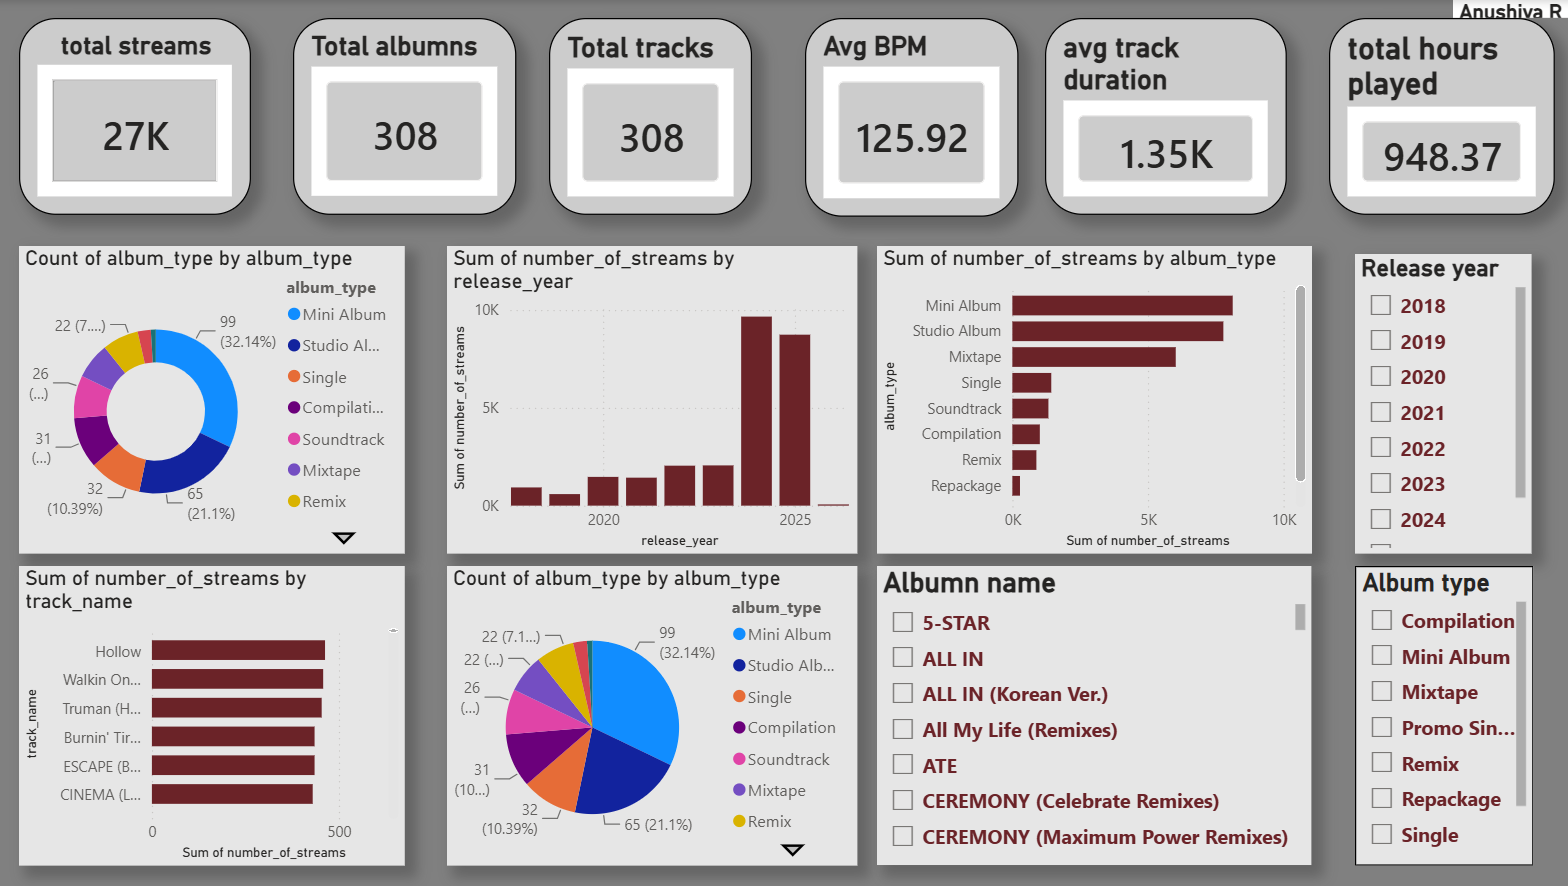

Layout of this report page (visuals, bound fields, positions):
{"tool":"powerbi","page":{"name":"executive","canvas":[1280,720],"ordinal":0},"visuals":[{"type":"cardVisual","title":"total streams","fields":{"Data":["Sum(spotify_skz_counts_album (2).number_of_streams)"]},"box":[21.7,15,188.3,160],"z":0},{"type":"cardVisual","title":"Total albumns","fields":{"Data":["CountNonNull(spotify_skz_counts_album (2).album_name)"]},"box":[243.3,15,181.7,160],"z":1},{"type":"cardVisual","title":"Total tracks","fields":{"Data":["CountNonNull(spotify_skz_counts_album (2).track_name)"]},"box":[451.7,15,165,160],"z":2},{"type":"cardVisual","title":"Avg BPM","fields":{"Data":["Avg(spotify_skz_counts_album (2).beats)"]},"box":[660,15,173.3,161.7],"z":3},{"type":"cardVisual","title":"total hours played","fields":{"Data":["Sum(spotify_skz_counts_album (2).Average Track Duration)"]},"box":[1085,15,183.3,160],"z":4},{"type":"cardVisual","title":"avg  track duration","fields":{"Data":["Sum(spotify_skz_counts_album (2).total hours)"]},"box":[855,15,196.7,160],"z":6},{"type":"clusteredColumnChart","fields":{"Category":["spotify_skz_counts_album (2).release_year"],"Y":["Sum(spotify_skz_counts_album (2).number_of_streams)"]},"box":[368.3,200,333.3,250],"z":7},{"type":"donutChart","fields":{"Y":["CountNonNull(spotify_skz_counts_album (2).album_type)"],"Category":["spotify_skz_counts_album (2).album_type"]},"box":[21.7,200,313.3,250],"z":8},{"type":"barChart","fields":{"Y":["Sum(spotify_skz_counts_album (2).number_of_streams)"],"Category":["spotify_skz_counts_album (2).album_type"]},"box":[718.3,200,353.3,250],"z":9},{"type":"clusteredBarChart","fields":{"Category":["spotify_skz_counts_album (2).track_name"],"Y":["Sum(spotify_skz_counts_album (2).number_of_streams)"]},"box":[21.7,460,313.3,243.3],"z":10},{"type":"pieChart","fields":{"Category":["spotify_skz_counts_album (2).album_type"],"Y":["CountNonNull(spotify_skz_counts_album (2).album_type)"]},"box":[368.3,460,333.3,243.3],"z":11},{"type":"slicer","title":"Release year","fields":{"Values":["spotify_skz_counts_album (2).release_year - text"]},"box":[1106.7,206.7,143.3,243.3],"z":12},{"type":"slicer","title":"Album type","fields":{"Values":["spotify_skz_counts_album (2).album_type"]},"box":[1106.7,460,145,243.3],"z":13},{"type":"slicer","title":"Albumn name","fields":{"Values":["spotify_skz_counts_album (2).album_name"]},"box":[718,460,353,243],"z":14}]}

Visuals, with their boxes in screenshot pixels (x1, y1, x2, y2), scaled from the page's 1280x720 canvas onto the 1568x886 screenshot:
"total streams" cardVisual: box(27, 18, 257, 215)
"Total albumns" cardVisual: box(298, 18, 521, 215)
"Total tracks" cardVisual: box(553, 18, 755, 215)
"Avg BPM" cardVisual: box(809, 18, 1021, 217)
"total hours played" cardVisual: box(1329, 18, 1554, 215)
"avg  track duration" cardVisual: box(1047, 18, 1288, 215)
clusteredColumnChart - spotify_skz_counts_album (2).release_year x Sum(spotify_skz_counts_album (2).number_of_streams): box(451, 246, 859, 554)
donutChart - CountNonNull(spotify_skz_counts_album (2).album_type) x spotify_skz_counts_album (2).album_type: box(27, 246, 410, 554)
barChart - Sum(spotify_skz_counts_album (2).number_of_streams) x spotify_skz_counts_album (2).album_type: box(880, 246, 1313, 554)
clusteredBarChart - spotify_skz_counts_album (2).track_name x Sum(spotify_skz_counts_album (2).number_of_streams): box(27, 566, 410, 865)
pieChart - spotify_skz_counts_album (2).album_type x CountNonNull(spotify_skz_counts_album (2).album_type): box(451, 566, 859, 865)
"Release year" slicer: box(1356, 254, 1531, 554)
"Album type" slicer: box(1356, 566, 1533, 865)
"Albumn name" slicer: box(880, 566, 1312, 865)
